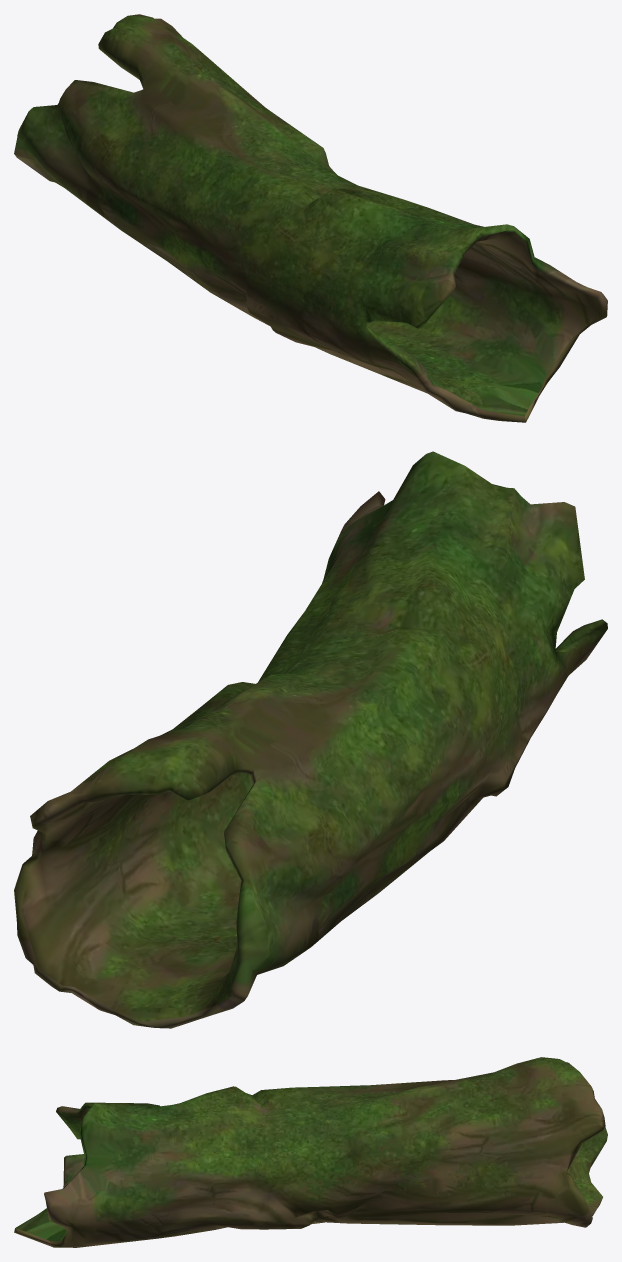
File: rainforest-log-b.lod0.glb
The picture shows the model from 3 angles, top to bottom: view 1: azimuth 30°, elevation 25°; view 2: azimuth 150°, elevation 25°; view 3: azimuth 270°, elevation 25°; orthographic projection. The views are drawn at different scales.
Visible parts, largest first — view 1: SM_RainForest_TreeTrunk_B_LOD0.mo_MI_RainForest_TreeTrunk_B_; view 2: SM_RainForest_TreeTrunk_B_LOD0.mo_MI_RainForest_TreeTrunk_B_; view 3: SM_RainForest_TreeTrunk_B_LOD0.mo_MI_RainForest_TreeTrunk_B_.
Boxes of the visible parts, x1,y1,x2,y2 form: SM_RainForest_TreeTrunk_B_LOD0.mo_MI_RainForest_TreeTrunk_B_: (14,14,607,422); SM_RainForest_TreeTrunk_B_LOD0.mo_MI_RainForest_TreeTrunk_B_: (14,451,607,1028); SM_RainForest_TreeTrunk_B_LOD0.mo_MI_RainForest_TreeTrunk_B_: (14,1057,607,1247).
Bounding box in the file's own units: 6.3 × 4.22 × 15.
Materials: 1 (1 with a texture image).
